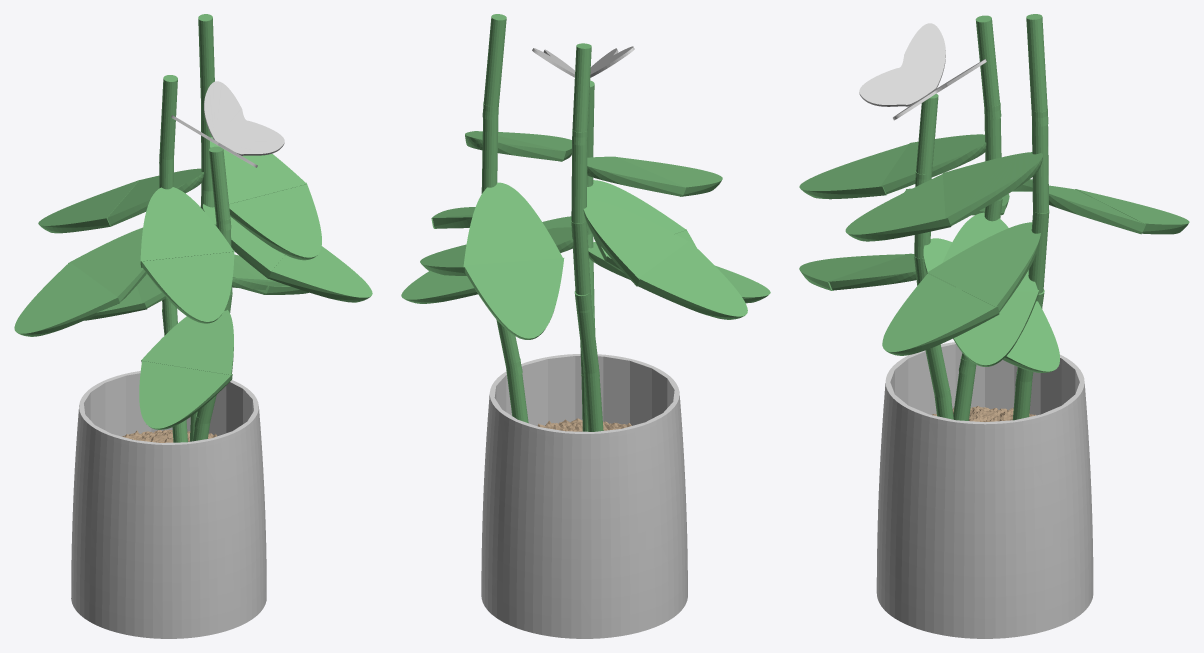
Rendered from Planta1.glb.
3 views of the same model, side by side, from view 1: azimuth 30°, elevation 25°; view 2: azimuth 150°, elevation 25°; view 3: azimuth 270°, elevation 25° (orthographic). The views are drawn at different scales.
Visible parts, largest first — view 1: Mesh_Mesh_head_geo.001_lambert2SG.001; view 2: Mesh_Mesh_head_geo.001_lambert2SG.001; view 3: Mesh_Mesh_head_geo.001_lambert2SG.001.
Boxes of the visible parts, bbox=[...] form: Mesh_Mesh_head_geo.001_lambert2SG.001: bbox=[14, 14, 372, 638]; Mesh_Mesh_head_geo.001_lambert2SG.001: bbox=[401, 14, 770, 638]; Mesh_Mesh_head_geo.001_lambert2SG.001: bbox=[799, 14, 1189, 638].
Size of the model in its own units: 74.5 by 124 by 72.04.
